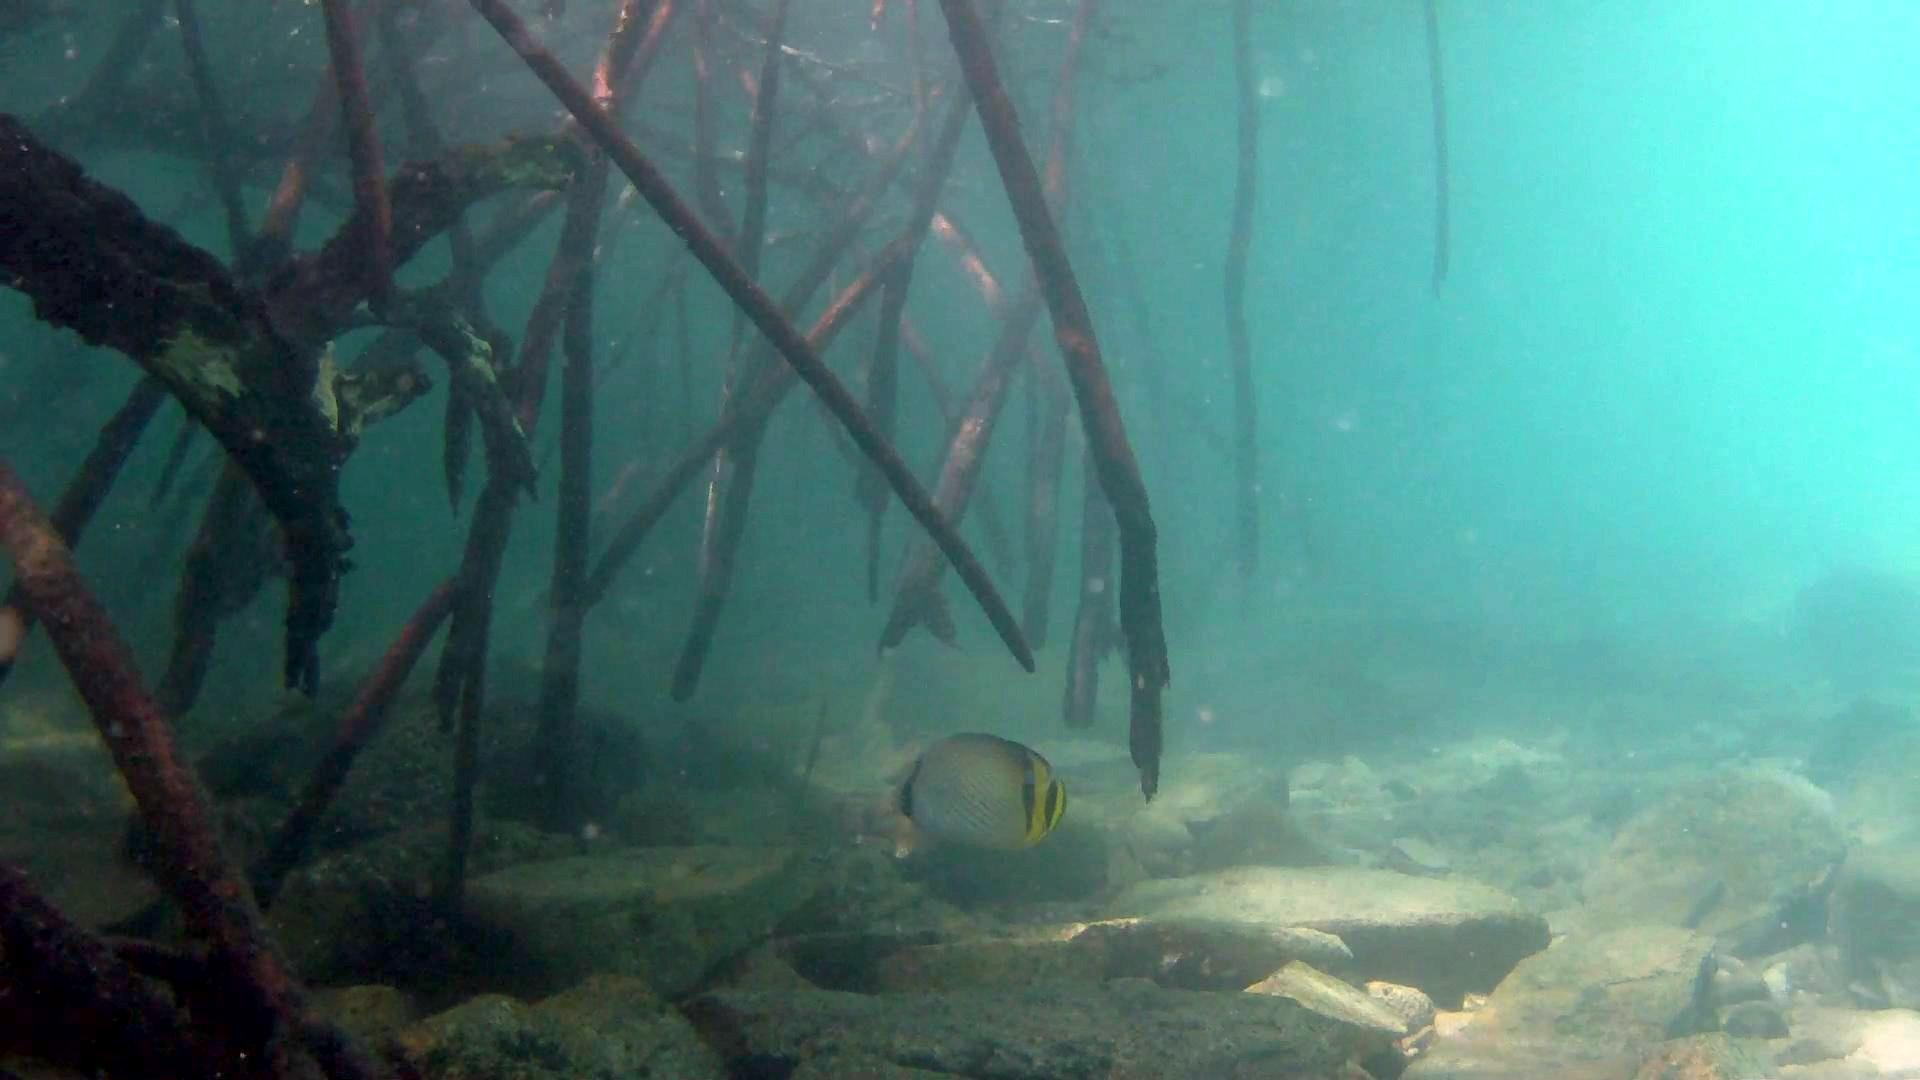chaetodon vagabundus: (886, 728, 1069, 853)
